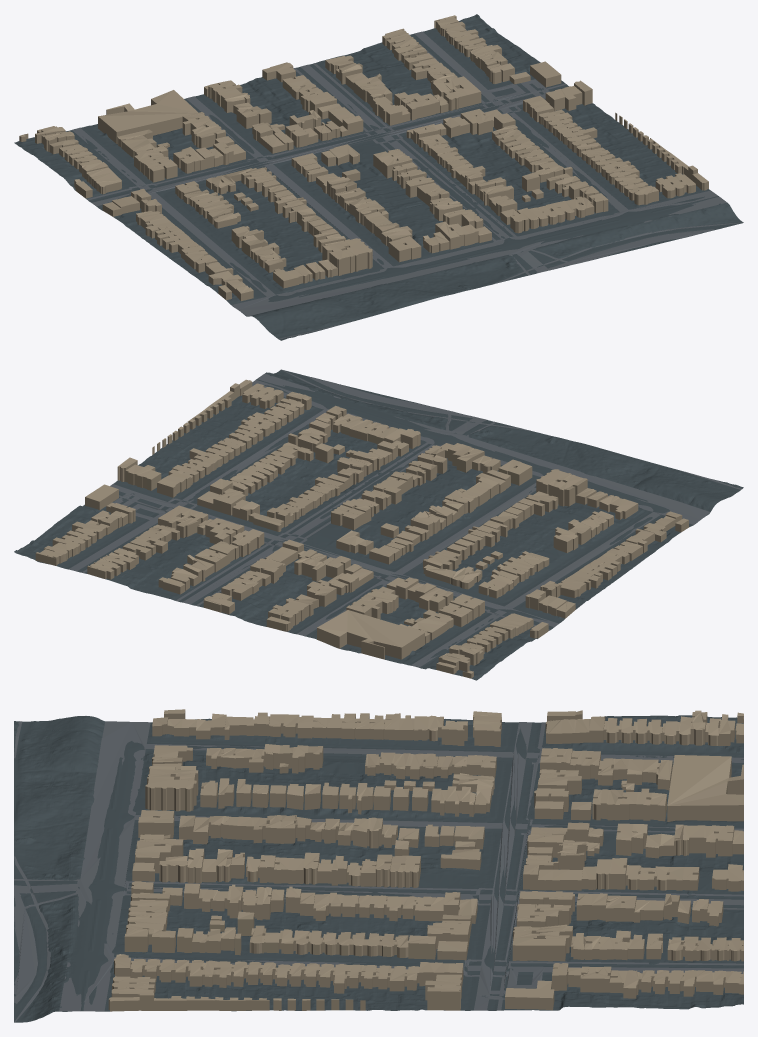
Rendered from epsg26910-1416-10884.lod0.glb.
3 views of the same model, one above another, from view 1: azimuth 30°, elevation 25°; view 2: azimuth 150°, elevation 25°; view 3: azimuth 270°, elevation 25° (orthographic). The views are drawn at different scales.
Parts seen in each view (by area): view 1: epsg26910-1416-10884-lod0; view 2: epsg26910-1416-10884-lod0; view 3: epsg26910-1416-10884-lod0.
Part boxes in pixels (bbox=[...]): epsg26910-1416-10884-lod0: bbox=[14, 14, 743, 340]; epsg26910-1416-10884-lod0: bbox=[14, 369, 743, 680]; epsg26910-1416-10884-lod0: bbox=[14, 709, 743, 1022].
Bounding box in the file's own units: 384 × 23.23 × 384.
